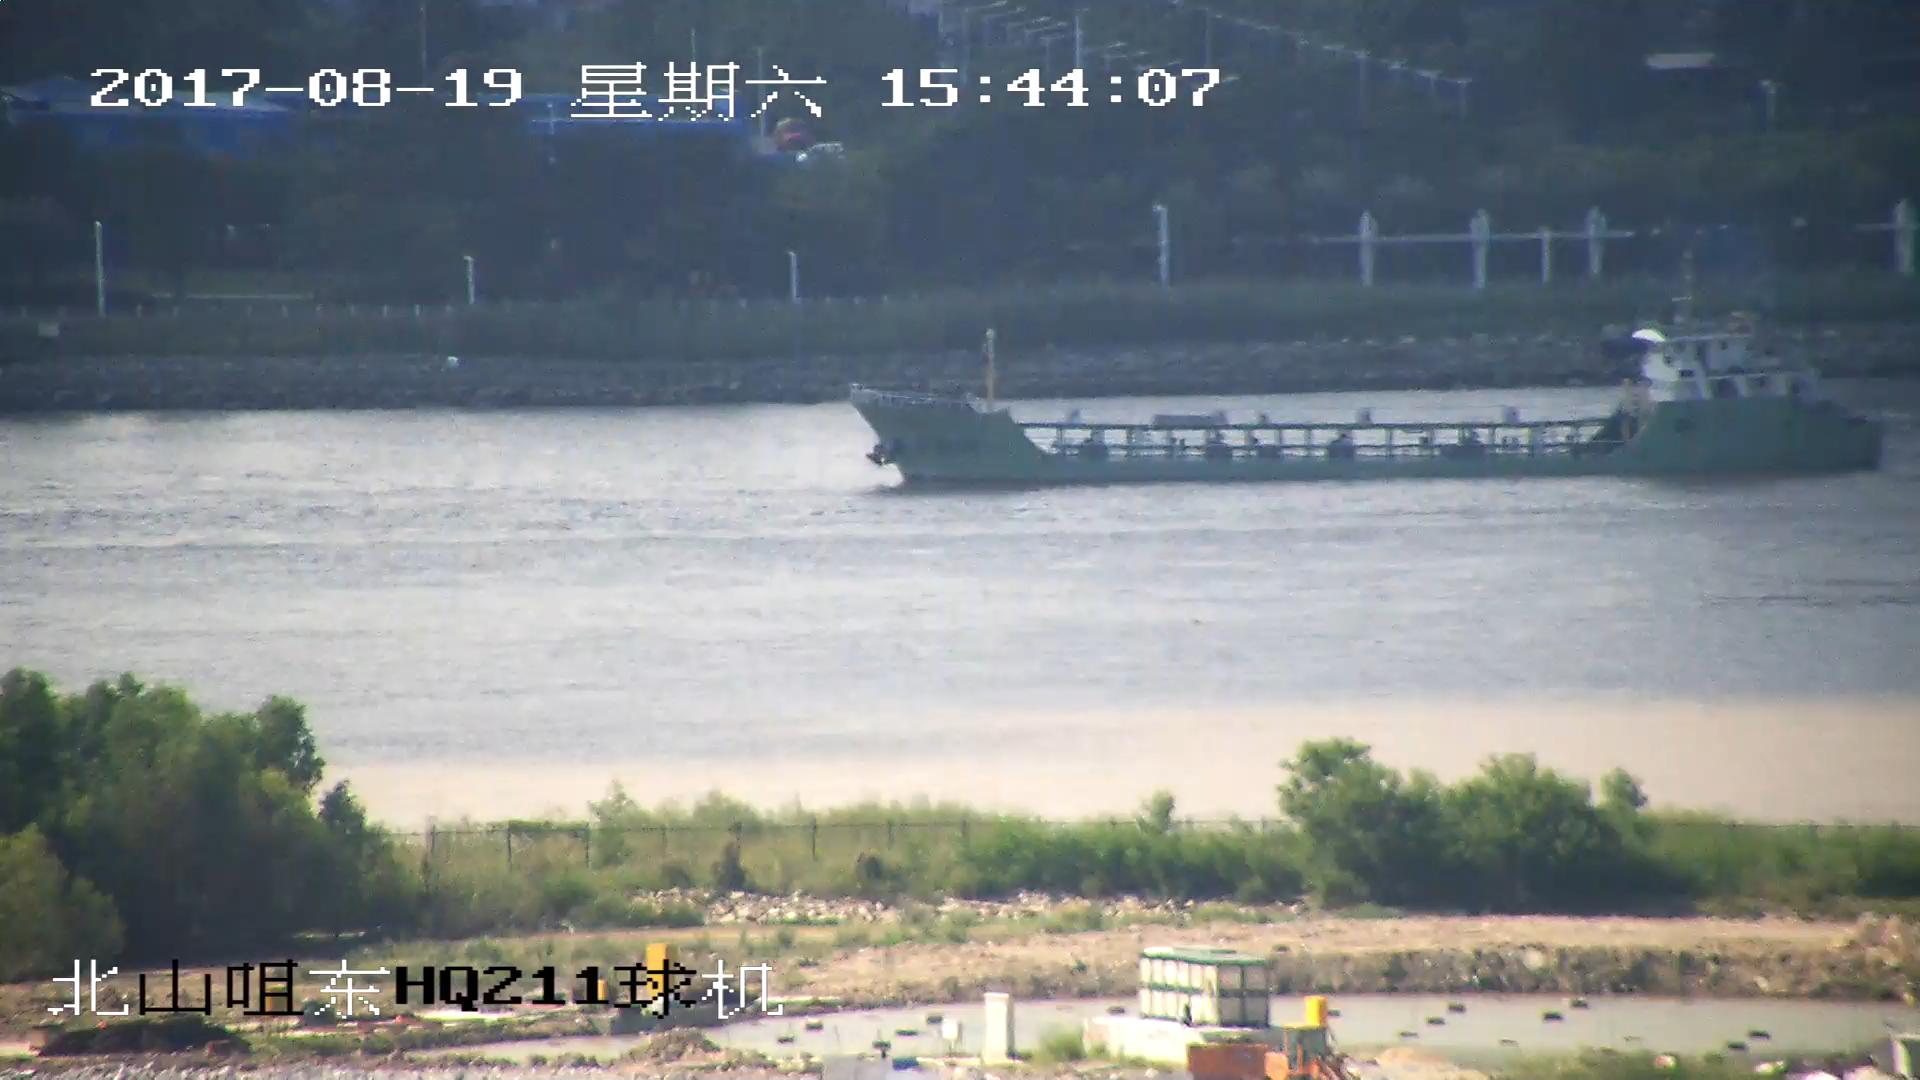general cargo ship: (847, 295, 1882, 483)
